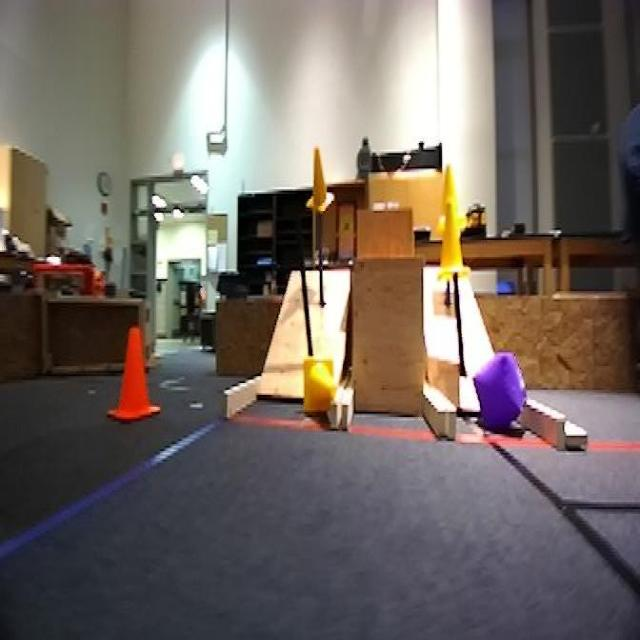frc_cone: (302, 358, 348, 420), (440, 206, 471, 276), (440, 160, 466, 237), (307, 150, 336, 214)
frc_cube: (474, 352, 523, 429)
